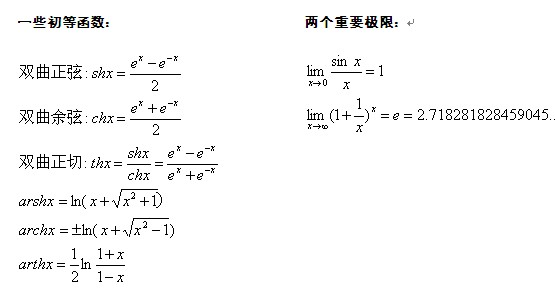division: (125, 71, 179, 78), (130, 117, 181, 123), (165, 162, 217, 167), (329, 70, 364, 76), (96, 262, 126, 268), (69, 263, 81, 269), (354, 113, 364, 119)
sqrt: (123, 217, 171, 240), (111, 186, 158, 209)
square: (139, 220, 149, 232), (129, 192, 136, 199)
